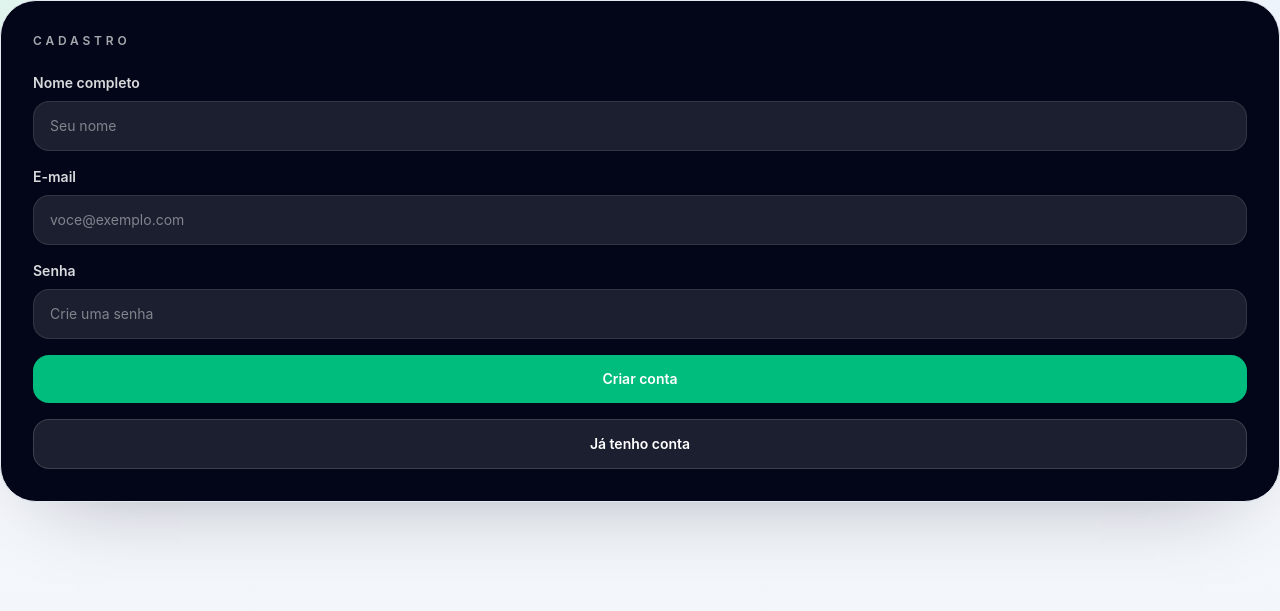
Test: SignupForm › renders feedback after submit
Type "test@example.com" into the field with placeholder "voce@exemplo.com" at (640, 220), box [33,195,1247,245]
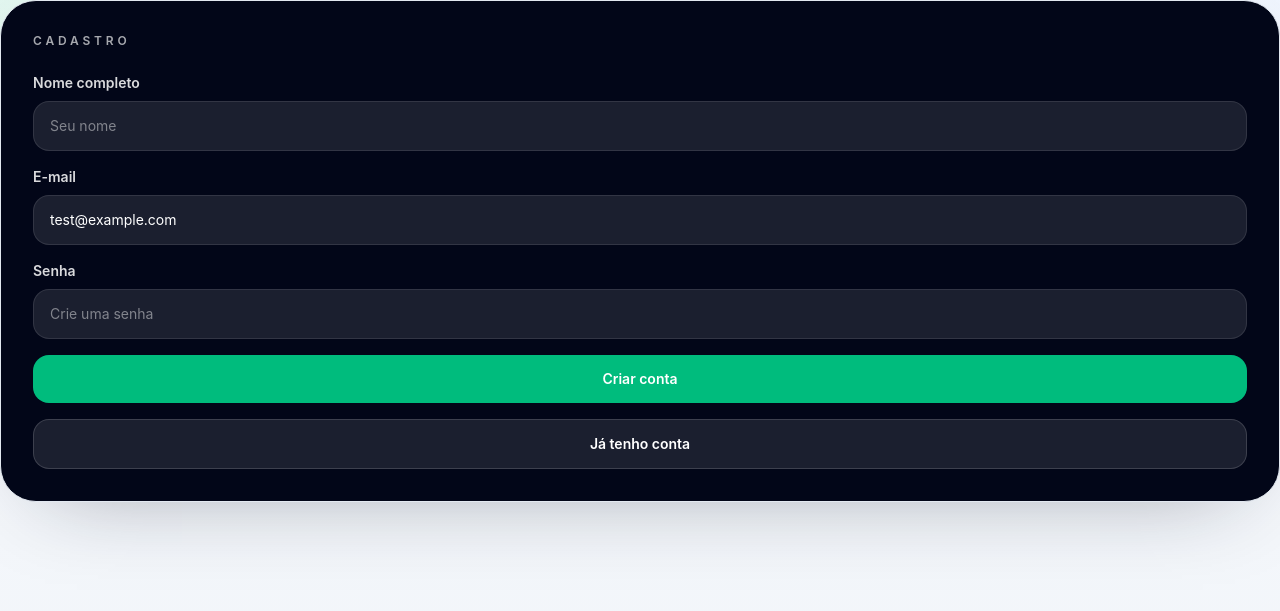
Type "secret" into the password field with placeholder "Crie uma senha" at (640, 314), box [33,289,1247,339]
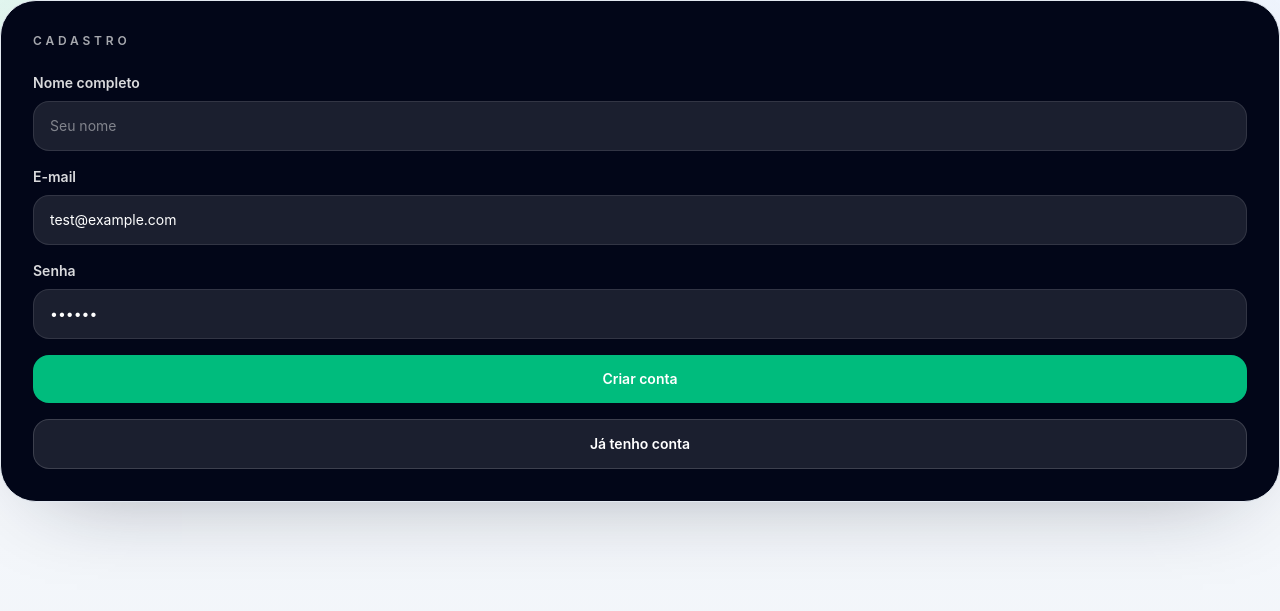
Submit the form from the button "Criar conta", box [33,355,1247,403]
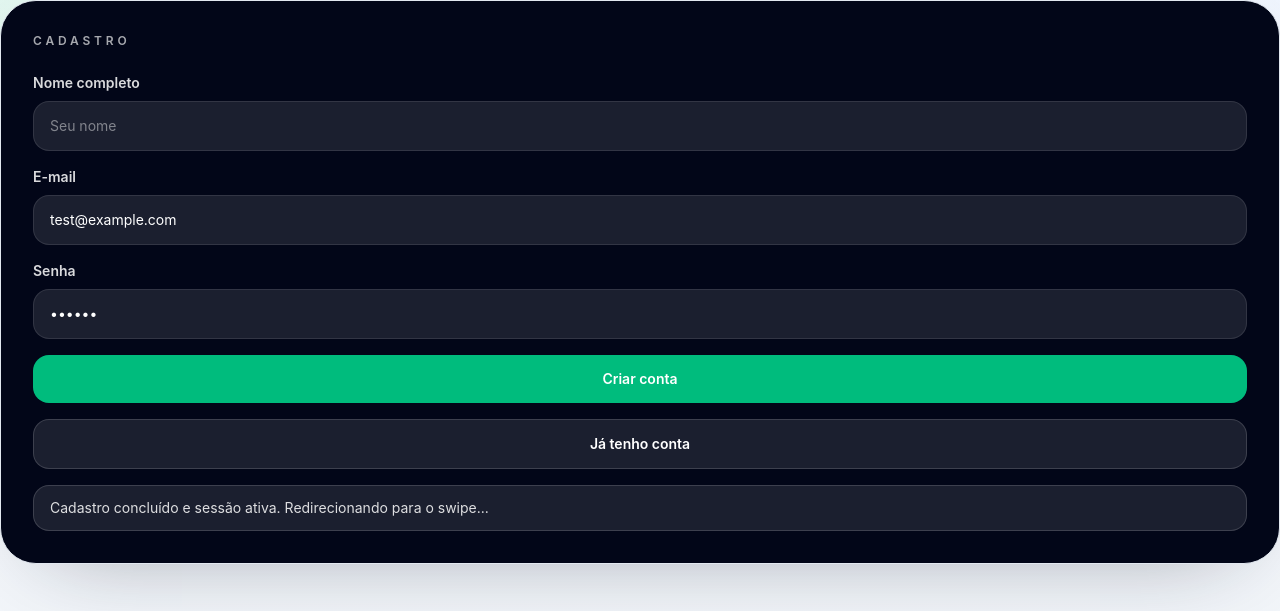
Result: the text "Cadastro concluído e sessão ativa. Redirecionando para o swipe..." is shown at [33,485,1247,531]
